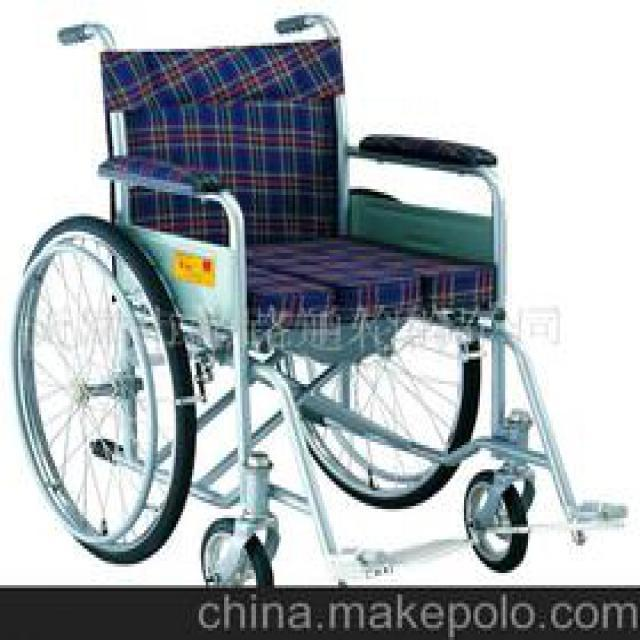wheelchair: (9, 9, 631, 582)
